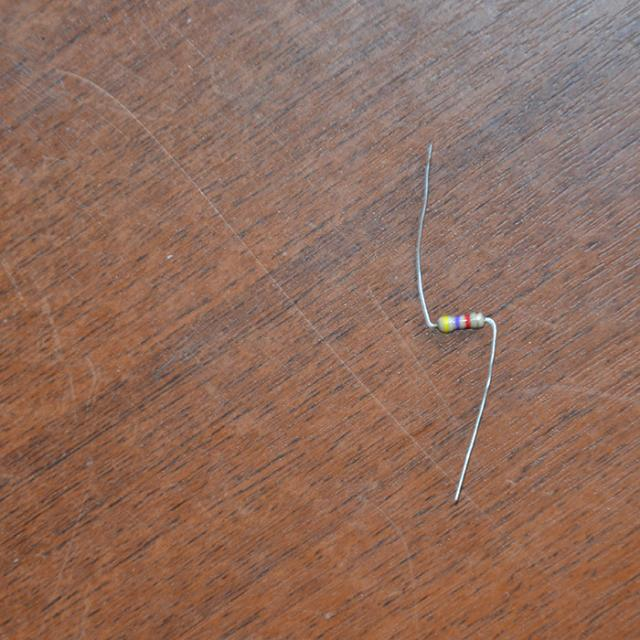gold: (475, 312, 480, 327)
red: (464, 315, 469, 327)
resistor: (432, 304, 488, 336)
violet: (456, 316, 460, 328)
yellow: (443, 315, 447, 330)
